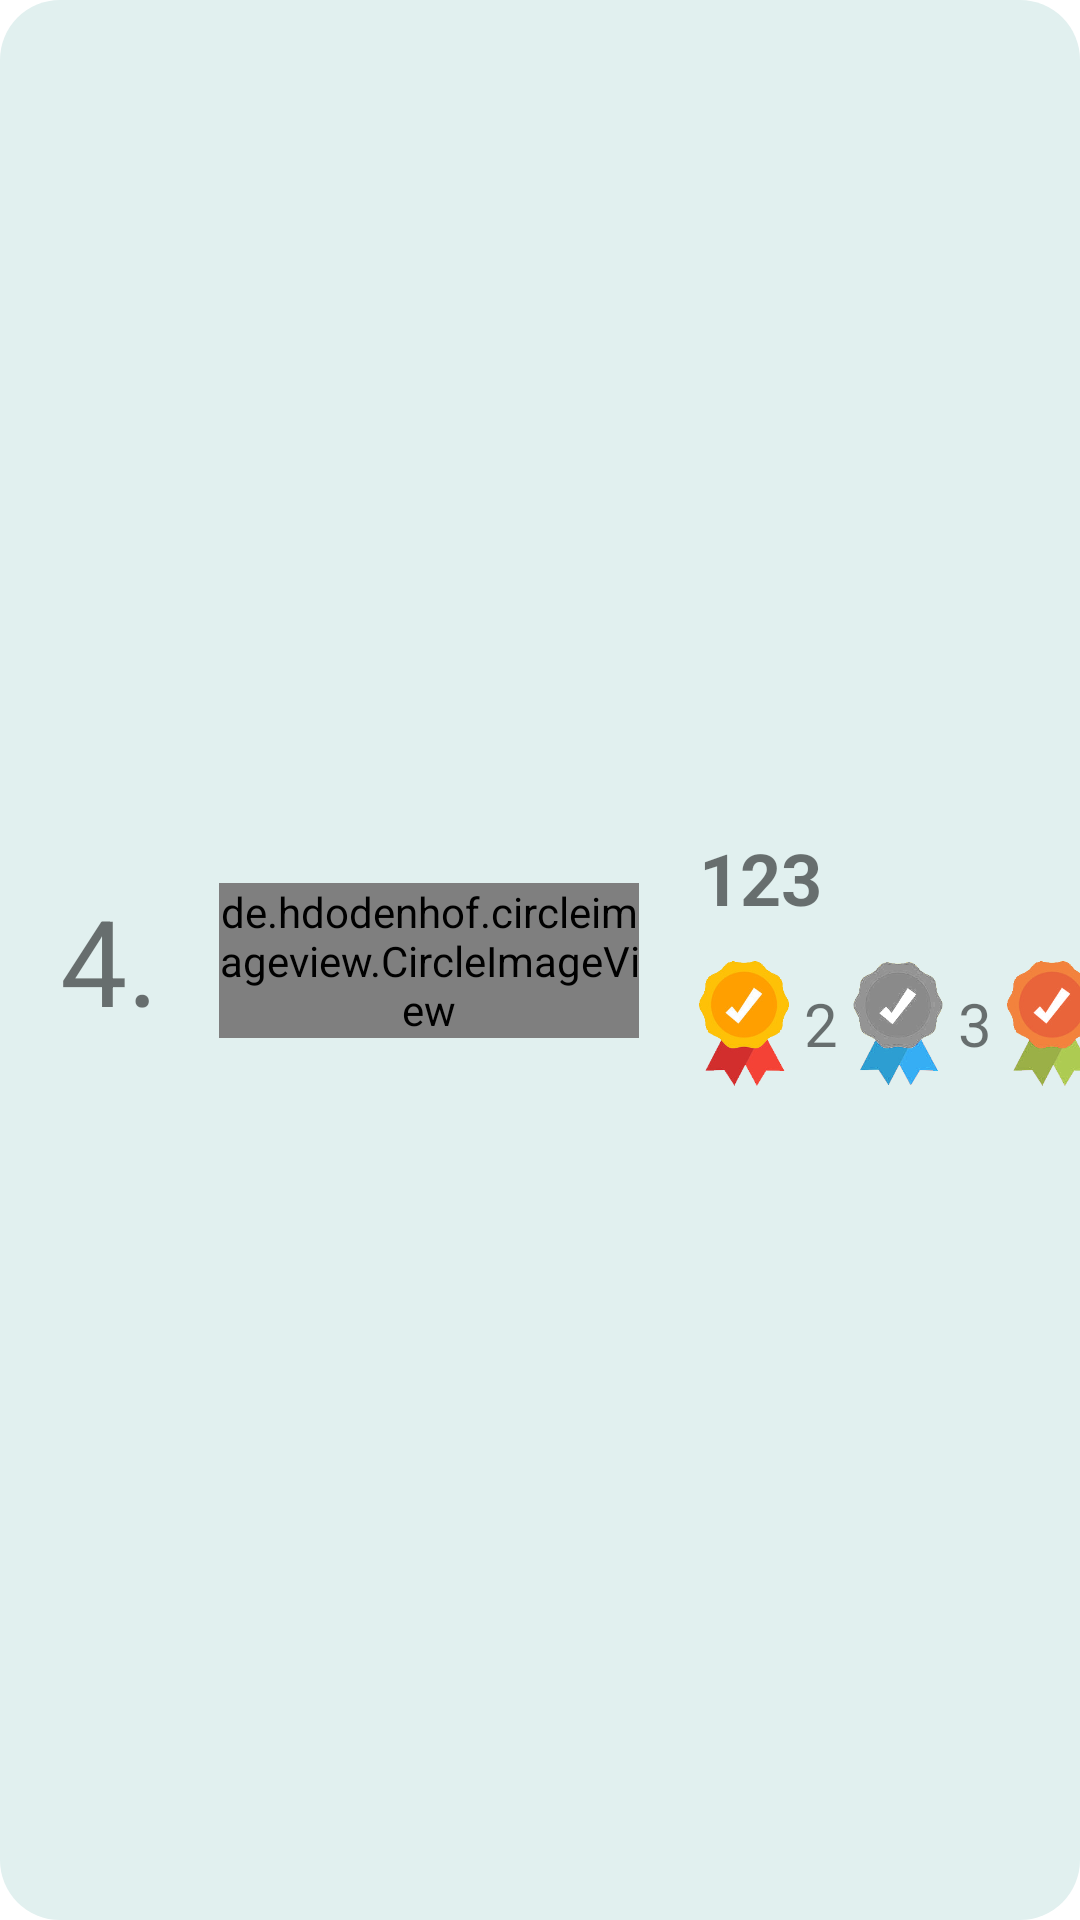

Where to tap for icons on this 1080 x 1920 app screen, as point (x, y):
gold: point (744, 1023)
silver: point (898, 1023)
